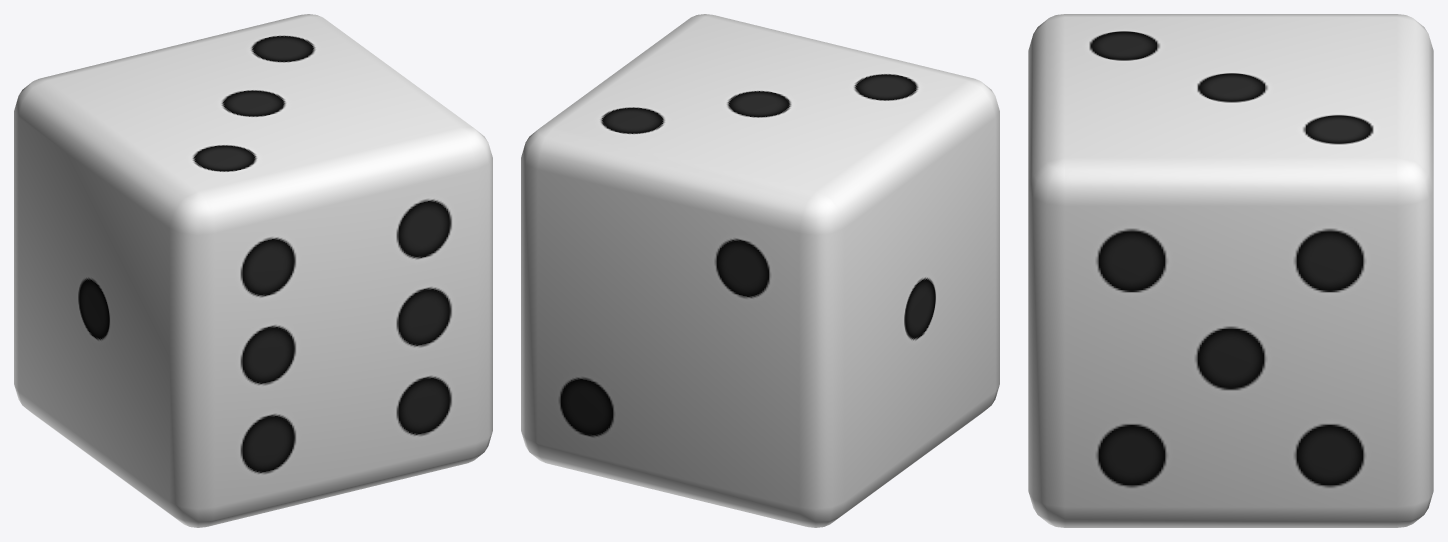
File: dice.FBX
3 views of the same model, side by side, from view 1: azimuth 30°, elevation 25°; view 2: azimuth 150°, elevation 25°; view 3: azimuth 270°, elevation 25° (orthographic). The views are drawn at different scales.
Visible parts, largest first — view 1: dice; view 2: dice; view 3: dice.
Boxes of the visible parts, <box> form: dice: <box>14,14,492,527</box>; dice: <box>521,14,999,527</box>; dice: <box>1028,14,1433,527</box>.
Bounding box in the file's own units: 28.36 × 28.36 × 28.36.
